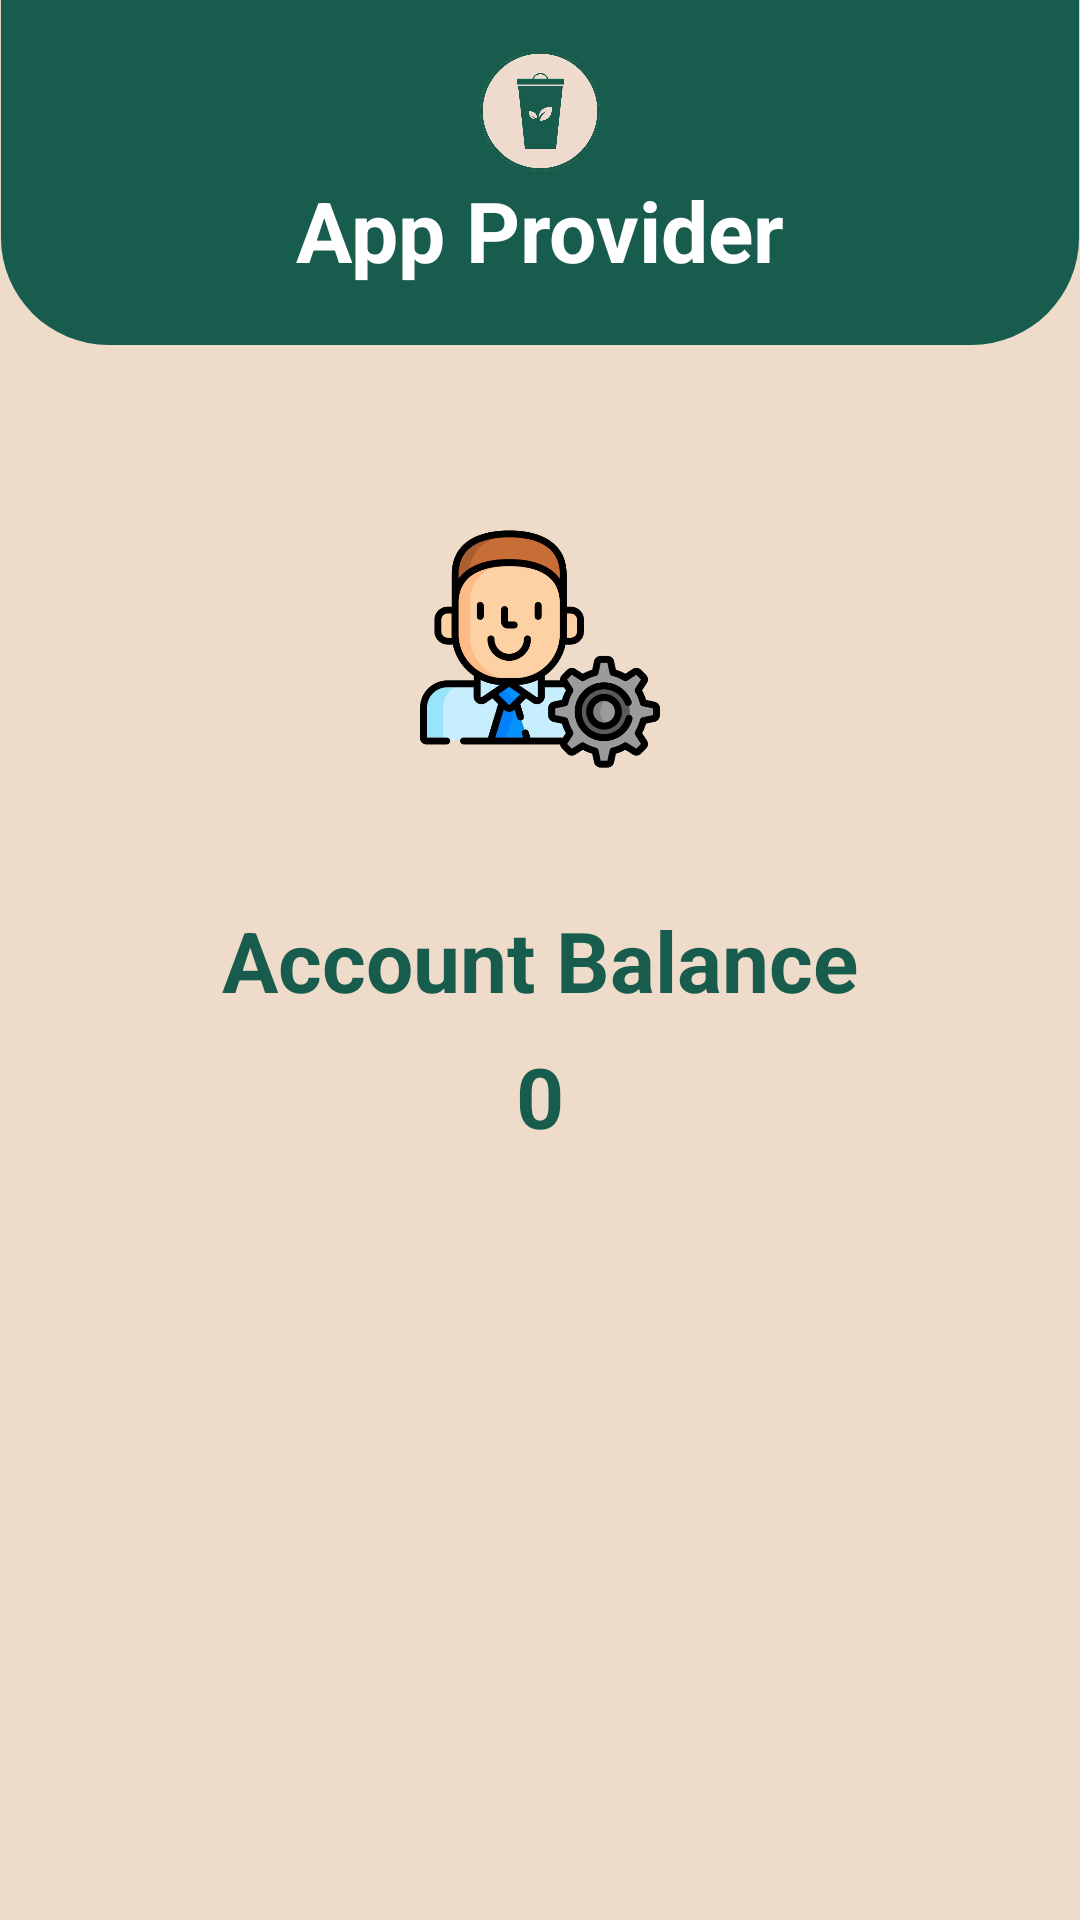

Screen size 1080*1920. Icon name, then its center in pixels as (x,y):
provider: (540,649)
